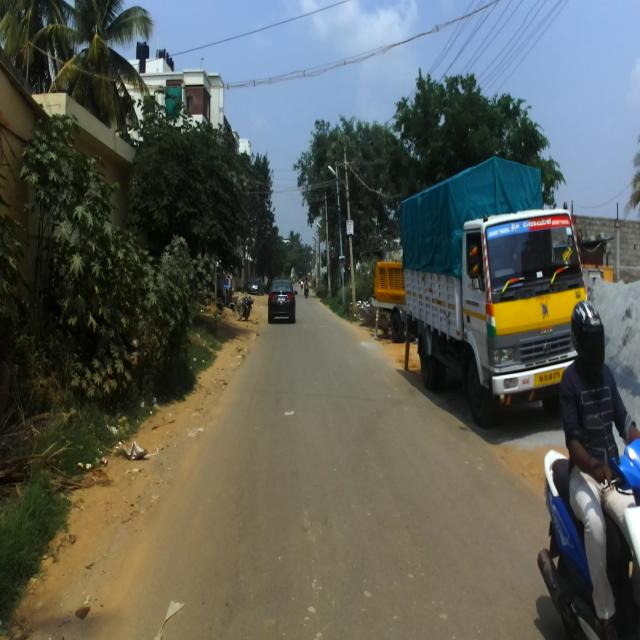motorcycle ahead at: (545, 445, 640, 640)
truck ahead at: (397, 155, 562, 420)
